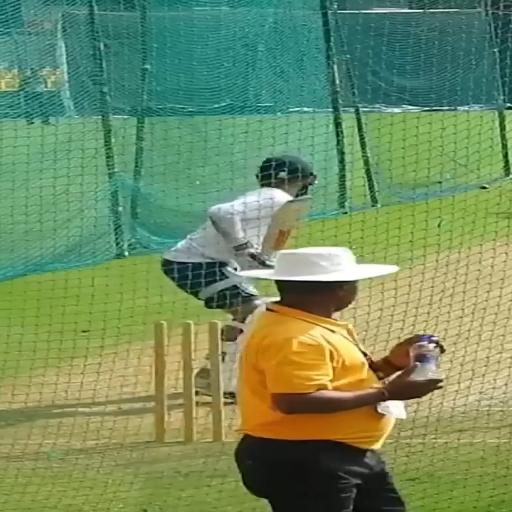Cricket bat: (262, 196, 308, 257)
